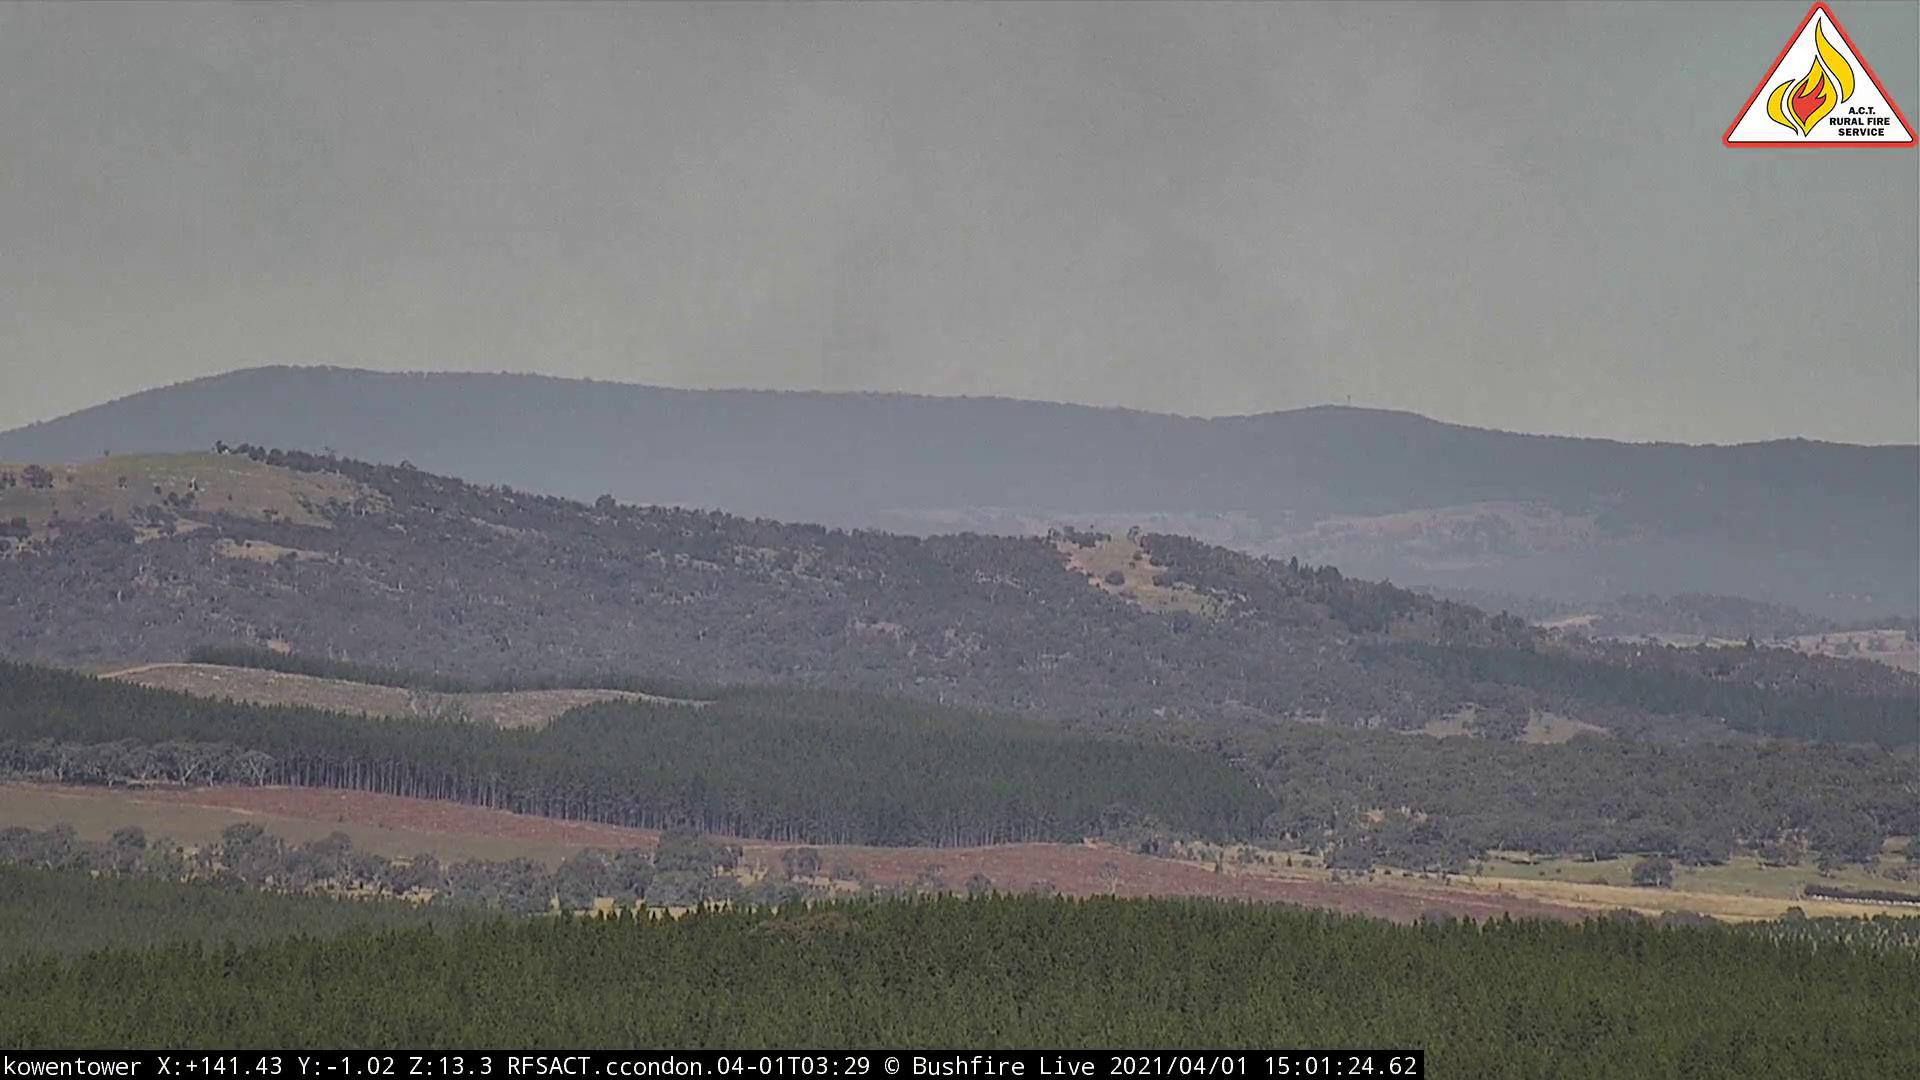Smoke: (607, 112, 1422, 425)
